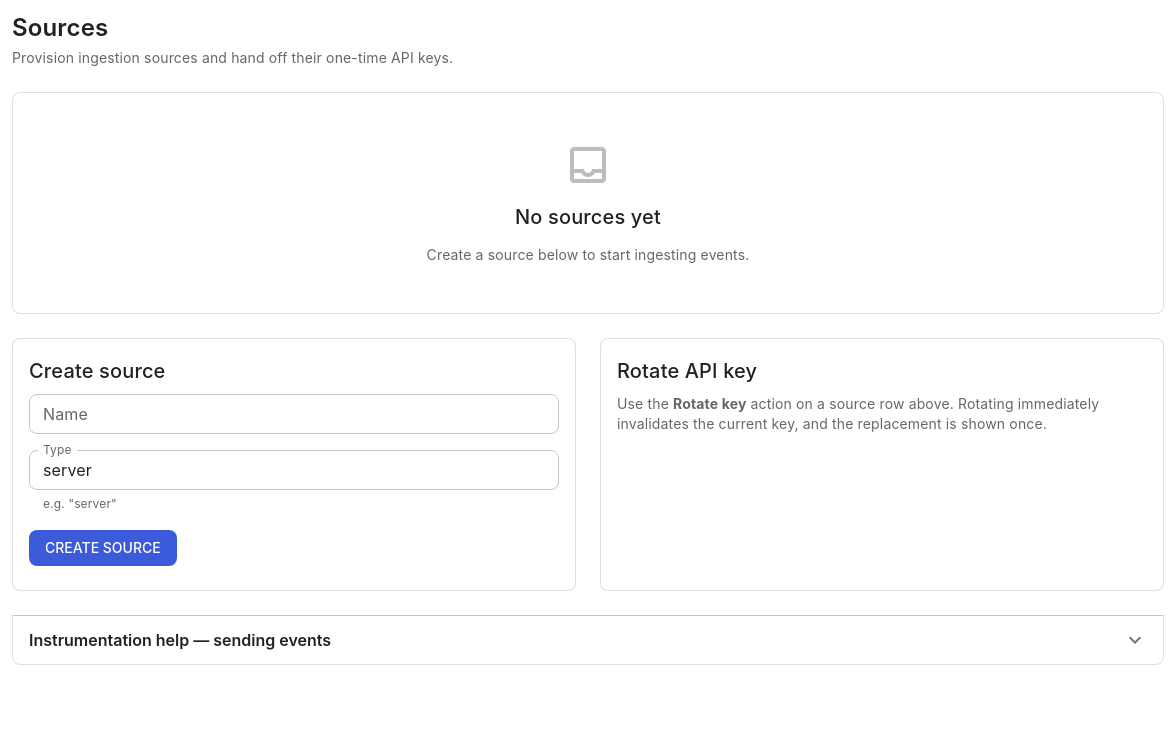
Test case: SourcesScreen › shows a validation error and no dialog when the name is empty
Click the button "Create source": (103, 548) 29,530 -> 177,566
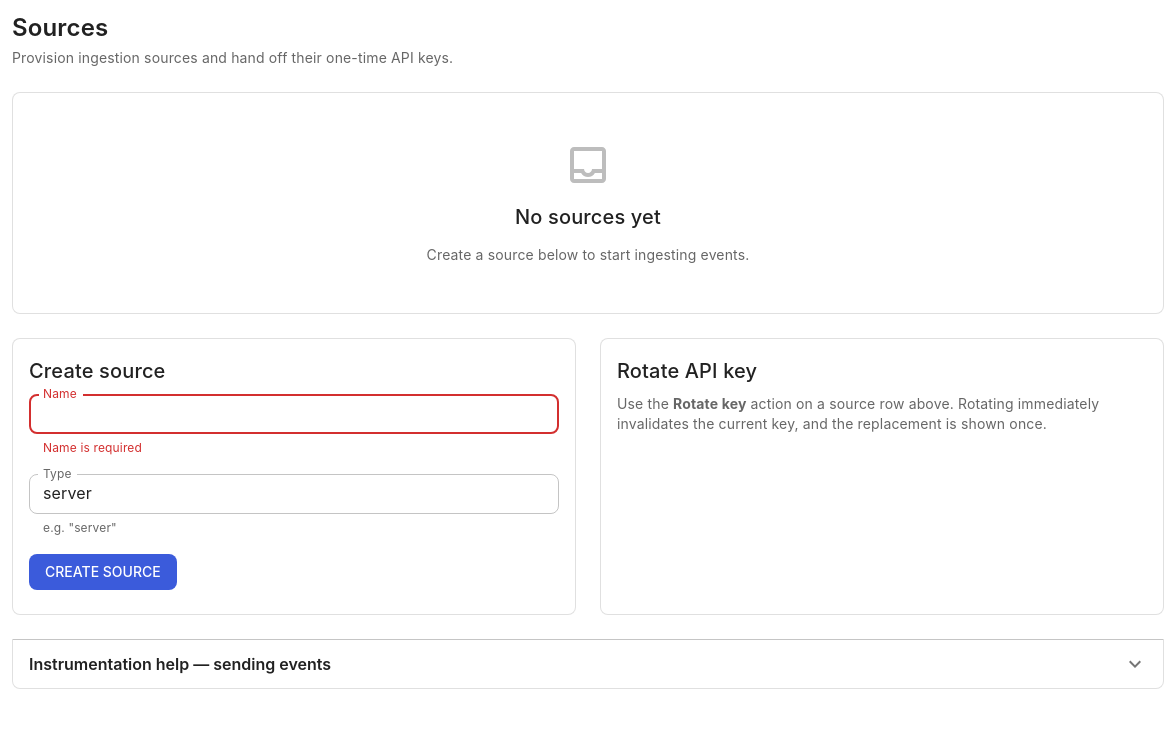
Expected: the text "Name is required" is shown, 43,440 -> 142,455
